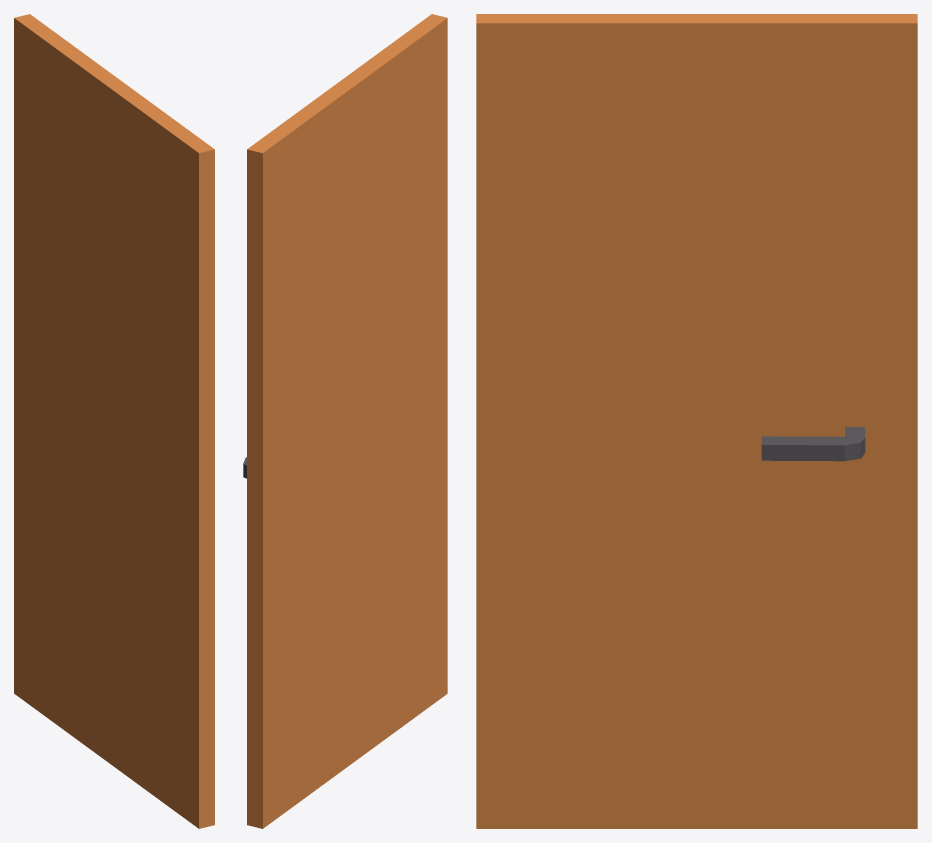
The model's file is DoorHandle.fbx.
3 views of the same model, side by side, from view 1: azimuth 30°, elevation 25°; view 2: azimuth 150°, elevation 25°; view 3: azimuth 270°, elevation 25° (orthographic). The views are drawn at different scales.
Parts seen in each view (by area): view 1: door; view 2: door; view 3: door, handle.
Part boxes in pixels (x1,y1,x2,y2): door: (14, 14, 214, 828); door: (247, 14, 447, 828); door: (476, 14, 917, 828); handle: (761, 427, 865, 461).
Size of the model in its own units: 0.1496 by 2.02 by 1.
